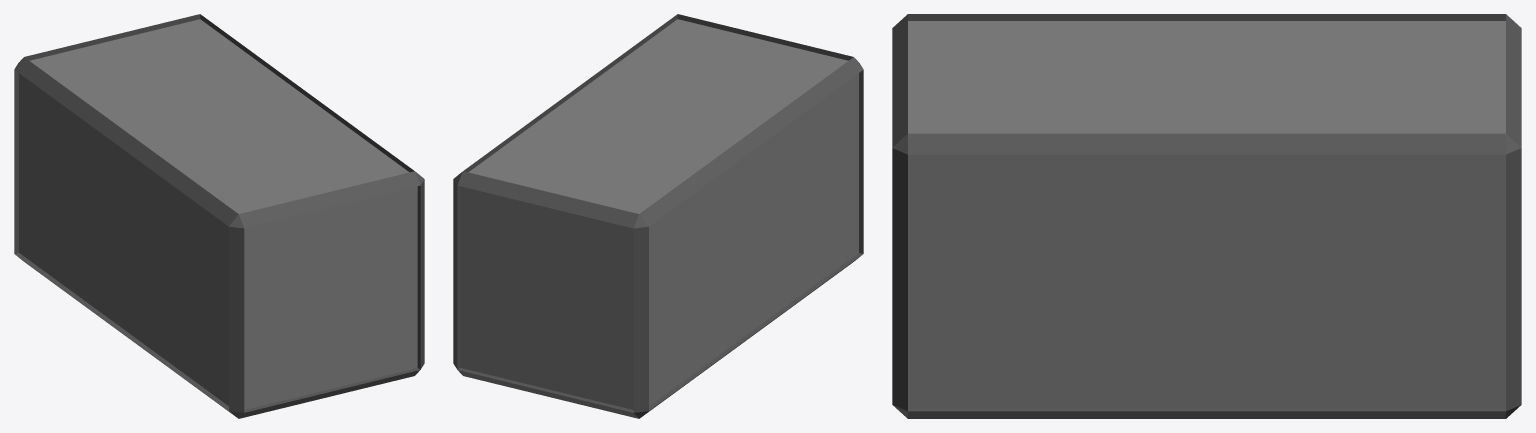
Rendered from Crate_2x4.fbx.
3 renders of one model, left to right at view 1: azimuth 30°, elevation 25°; view 2: azimuth 150°, elevation 25°; view 3: azimuth 270°, elevation 25°, orthographic. The views are drawn at different scales.
Parts seen in each view (by area): view 1: Crate_2x4; view 2: Crate_2x4; view 3: Crate_2x4.
Part boxes in pixels (left/top/right/bottom): Crate_2x4: left=14, top=14, right=424, bottom=418; Crate_2x4: left=453, top=14, right=863, bottom=418; Crate_2x4: left=892, top=14, right=1521, bottom=418.
Bounding box in the file's own units: 200 × 200 × 400.
